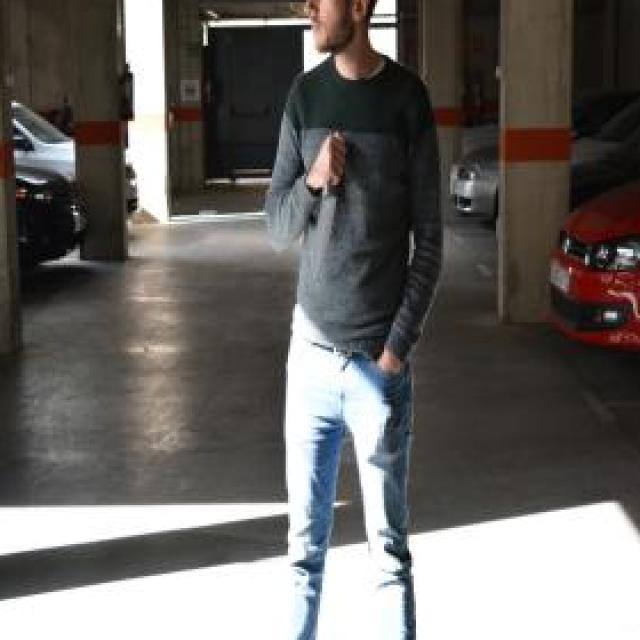knife: (308, 176, 341, 287)
